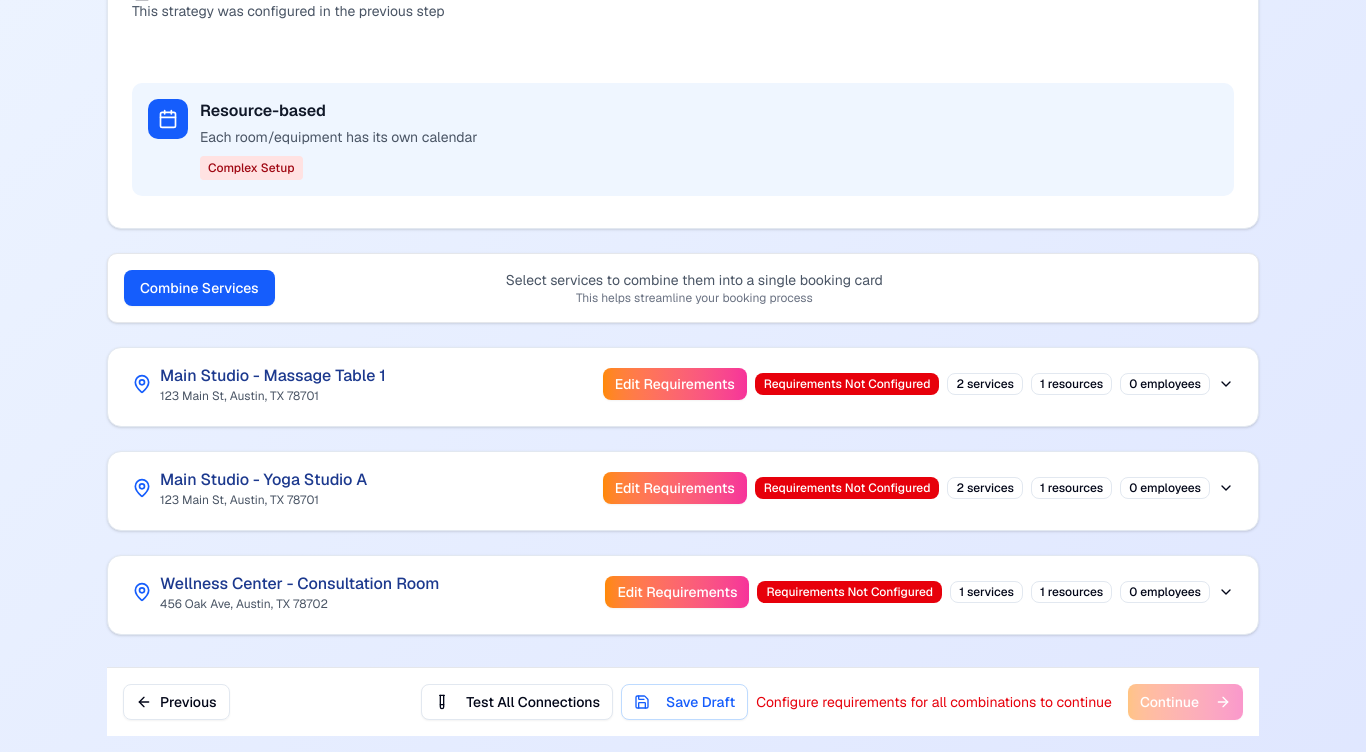
Test: CalendarIntegrationPage - Resource-Based Strategy › should allow editing booking requirements for resource-based combos
(page scrolled)
Click the button "Edit Requirements" in the row of "Main Studio - Massage Table 1".
click(675, 384)  # box [603, 368, 747, 400]
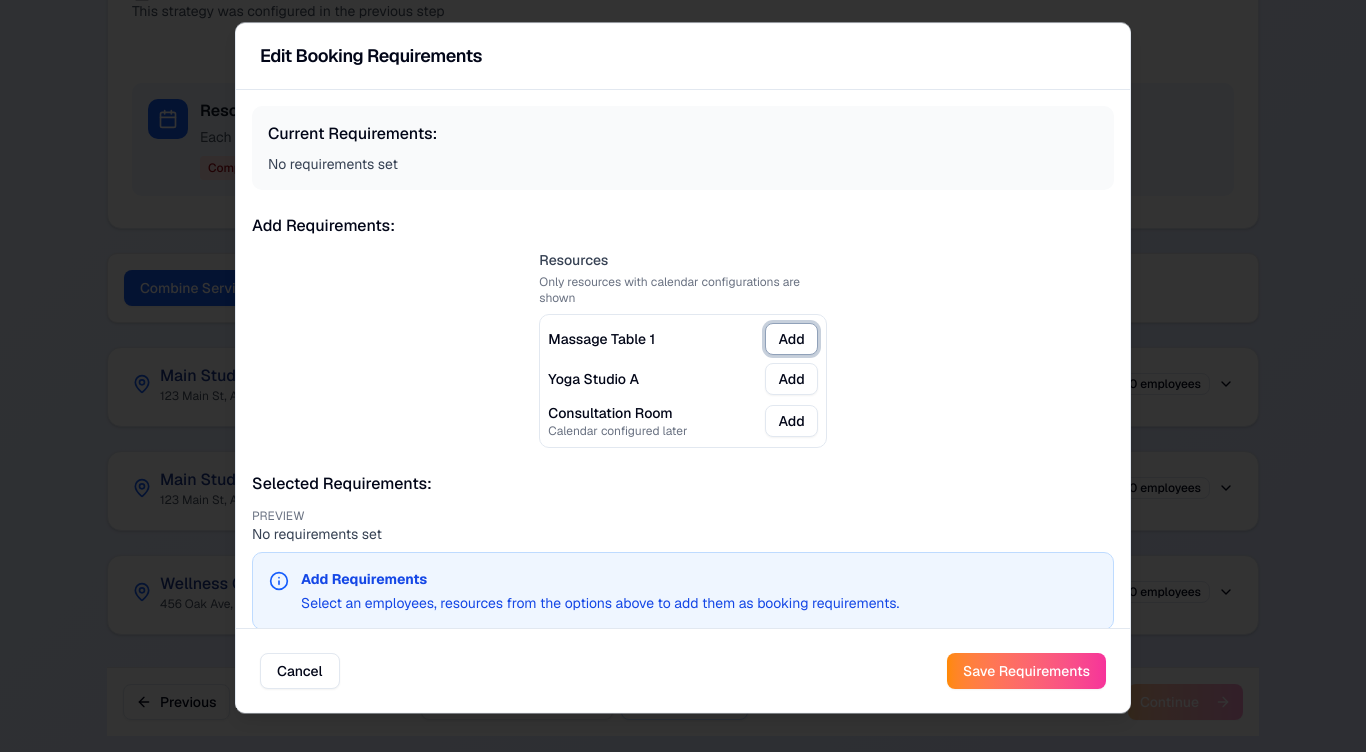
Expected: the heading "Edit Booking Requirements" is shown, [260, 44, 482, 67]
